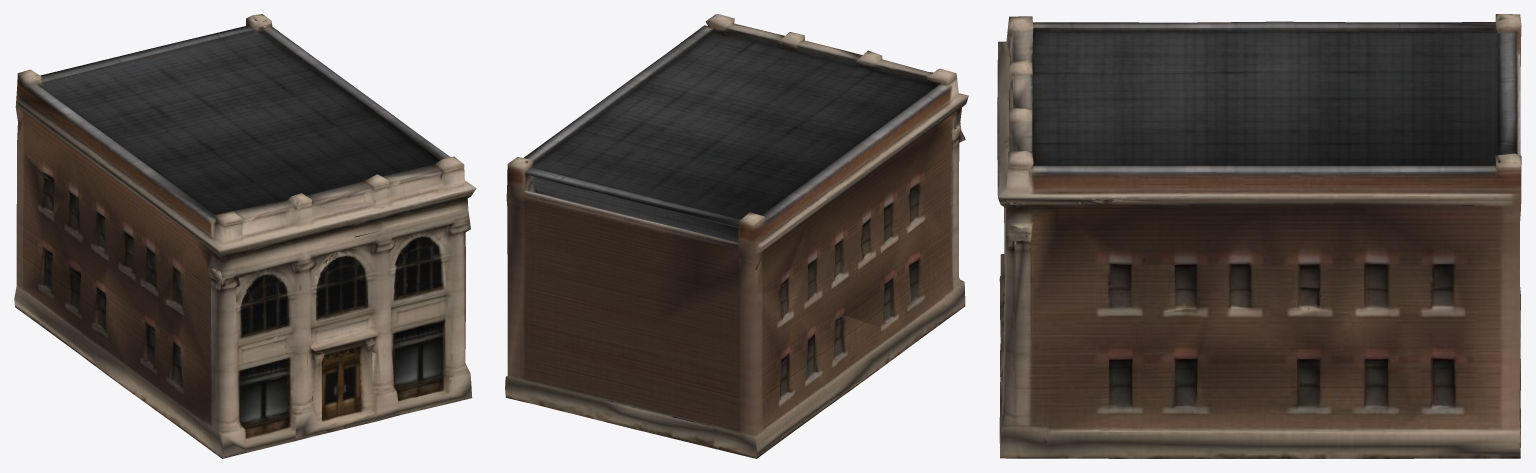
Rendered from gen_low2_bank.glb.
3 views of the same model, side by side, from view 1: azimuth 30°, elevation 25°; view 2: azimuth 150°, elevation 25°; view 3: azimuth 270°, elevation 25° (orthographic). The views are drawn at different scales.
Parts seen in each view (by area): view 1: gen_low2_bank; view 2: gen_low2_bank; view 3: gen_low2_bank.
Boxes of the visible parts, box(x1,y1,x2,y2) form: gen_low2_bank: box(14, 14, 476, 458); gen_low2_bank: box(505, 14, 968, 458); gen_low2_bank: box(997, 14, 1521, 458).
Size of the model in its own units: 12.41 by 11.01 by 17.54.
1 material, 1 textured.
